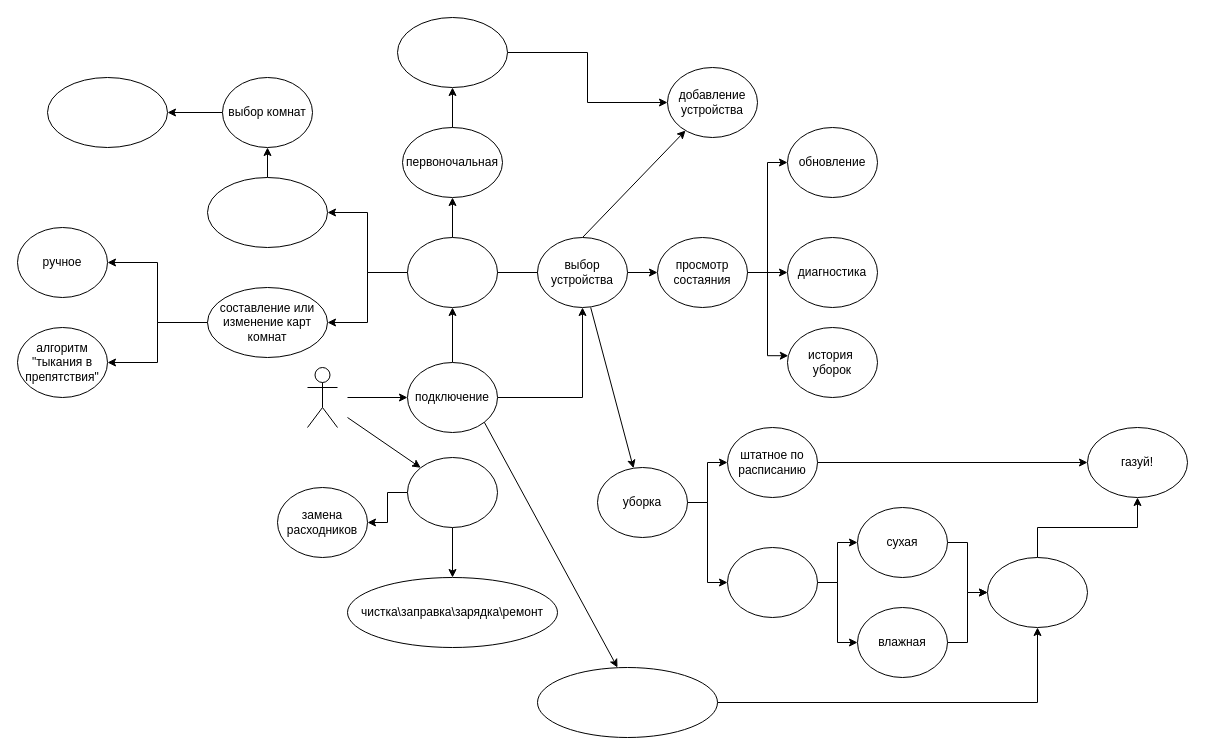
Image size: 1205x755. Some labels were removed from this diagram. Each missing label, with the centre of its shape:
Actor: (322,397)
выбор комнаты: (1037,592)
настройка: (452,272)
настрока типов уборок: (107,112)
обслуживание: (452,492)
регистрация и инициализация: (452,52)
составление или изменение расписания: (267,212)
срочная: (772,582)
супер функция!!! "покатай кота": (627,702)
